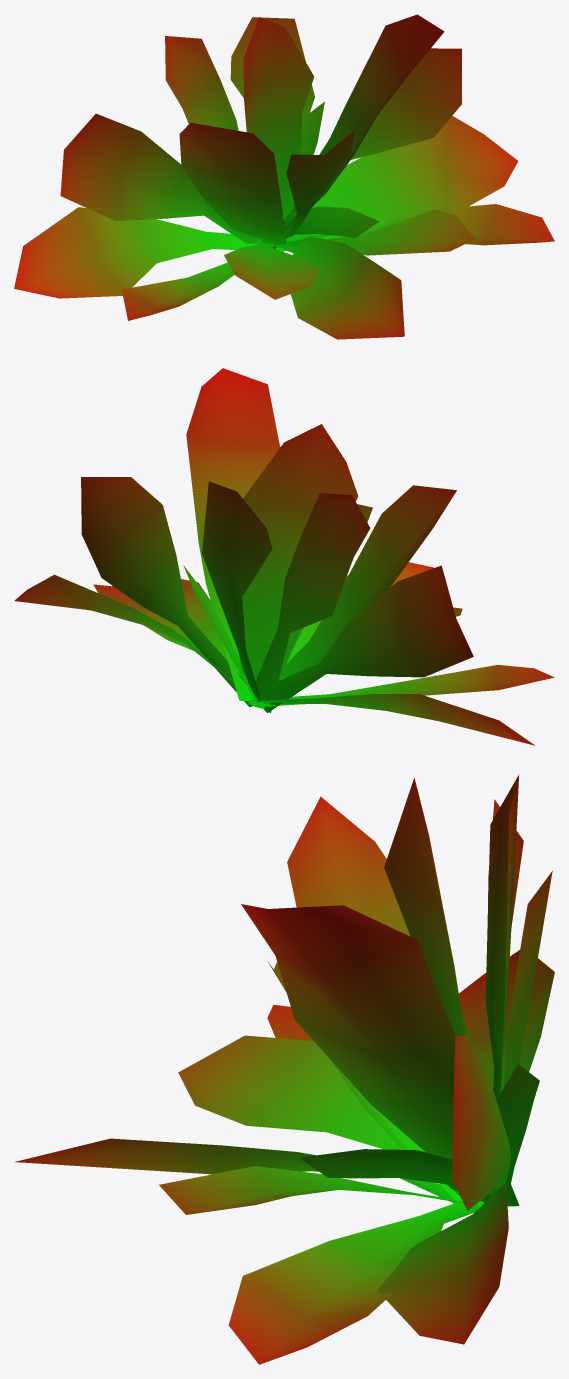
The model's file is Var23_LOD0.fbx.
The picture shows the model from 3 angles, top to bottom: view 1: azimuth 30°, elevation 25°; view 2: azimuth 150°, elevation 25°; view 3: azimuth 270°, elevation 25°; orthographic projection. The views are drawn at different scales.
Visible parts, largest first — view 1: _h2f9_Var23_LOD0; view 2: _h2f9_Var23_LOD0; view 3: _h2f9_Var23_LOD0.
Part boxes in pixels (x1,y1,x2,y2): _h2f9_Var23_LOD0: [14, 14, 554, 339]; _h2f9_Var23_LOD0: [14, 368, 554, 745]; _h2f9_Var23_LOD0: [15, 774, 554, 1364].
Size of the model in its own units: 16.74 by 8.42 by 9.89.
